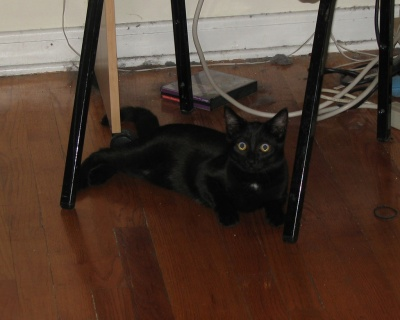Cat: (79, 106, 290, 226)
